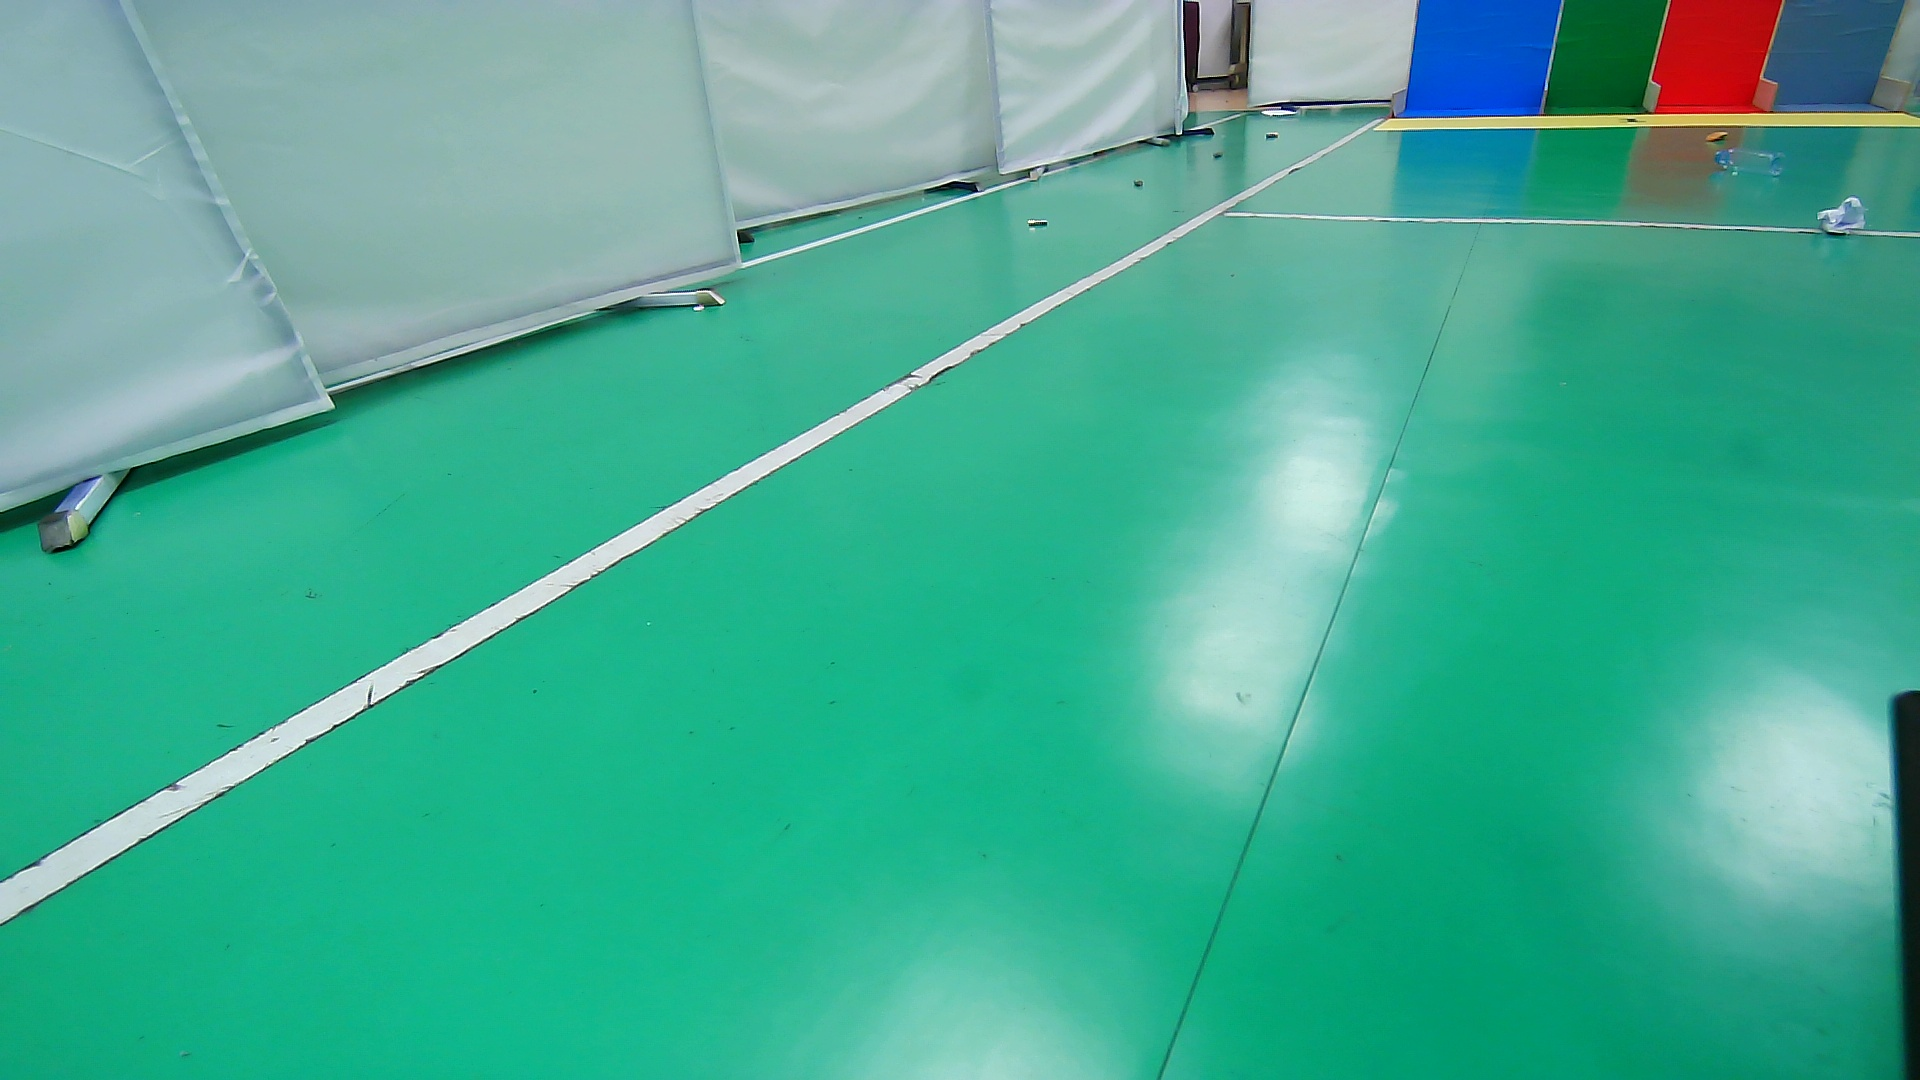battery: (1015, 208, 1059, 239), (1121, 169, 1156, 198), (1201, 142, 1234, 169), (1255, 123, 1288, 148)
bottle: (1709, 145, 1789, 179)
orangepeel: (1698, 127, 1734, 145)
spitball: (1812, 193, 1870, 239)
